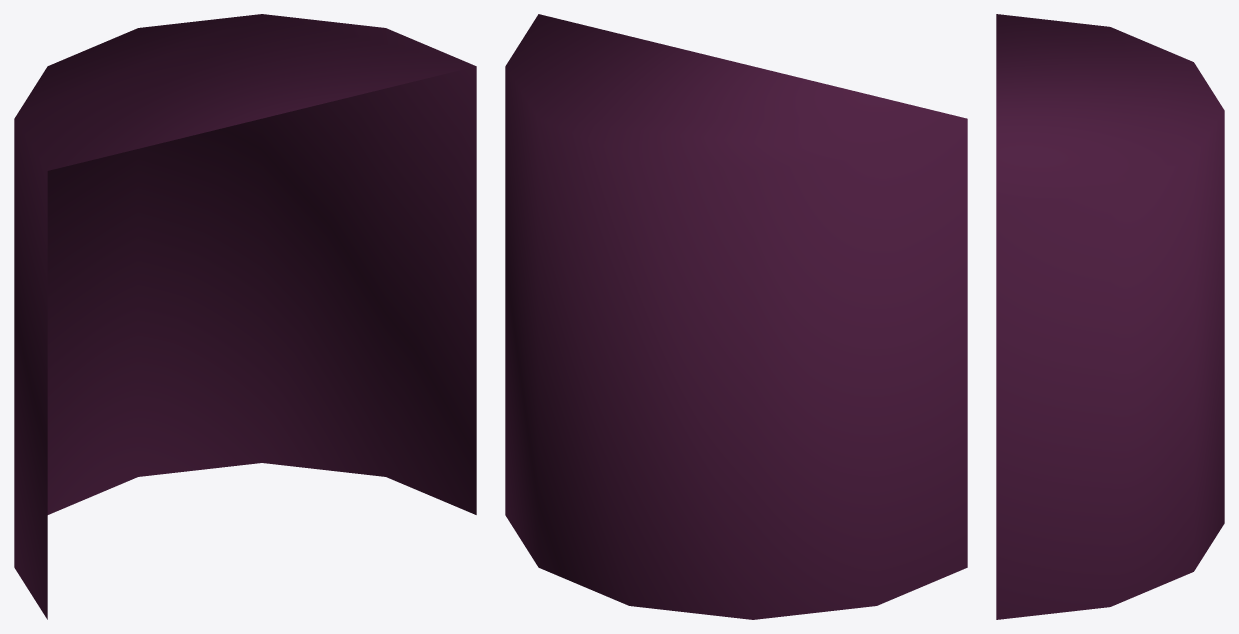
File: Blocagem_MiniGame_GetItRock_BG.fbx
3 views of the same model, side by side, from view 1: azimuth 30°, elevation 25°; view 2: azimuth 150°, elevation 25°; view 3: azimuth 270°, elevation 25° (orthographic). The views are drawn at different scales.
Parts seen in each view (by area): view 1: BG_Cilinder; view 2: BG_Cilinder; view 3: BG_Cilinder.
Boxes of the visible parts, box(x1,y1,x2,y2) form: BG_Cilinder: box(14, 14, 476, 619); BG_Cilinder: box(505, 14, 967, 619); BG_Cilinder: box(996, 14, 1224, 619).
Size of the model in its own units: 2911 by 2911 by 1456.
